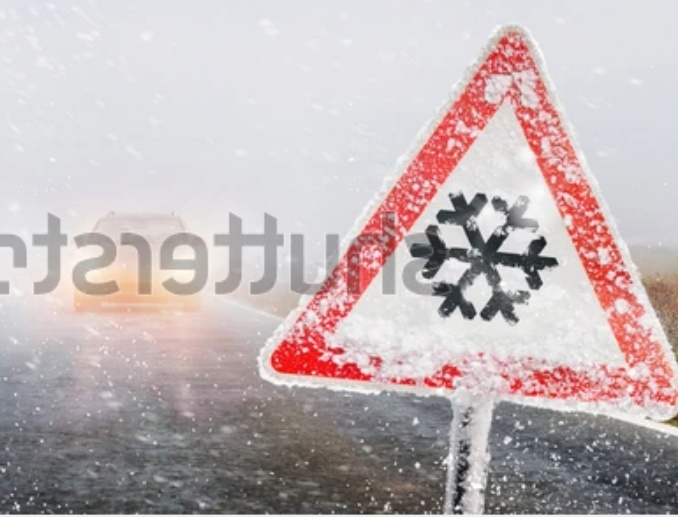Snowy road: (268, 29, 677, 451)
